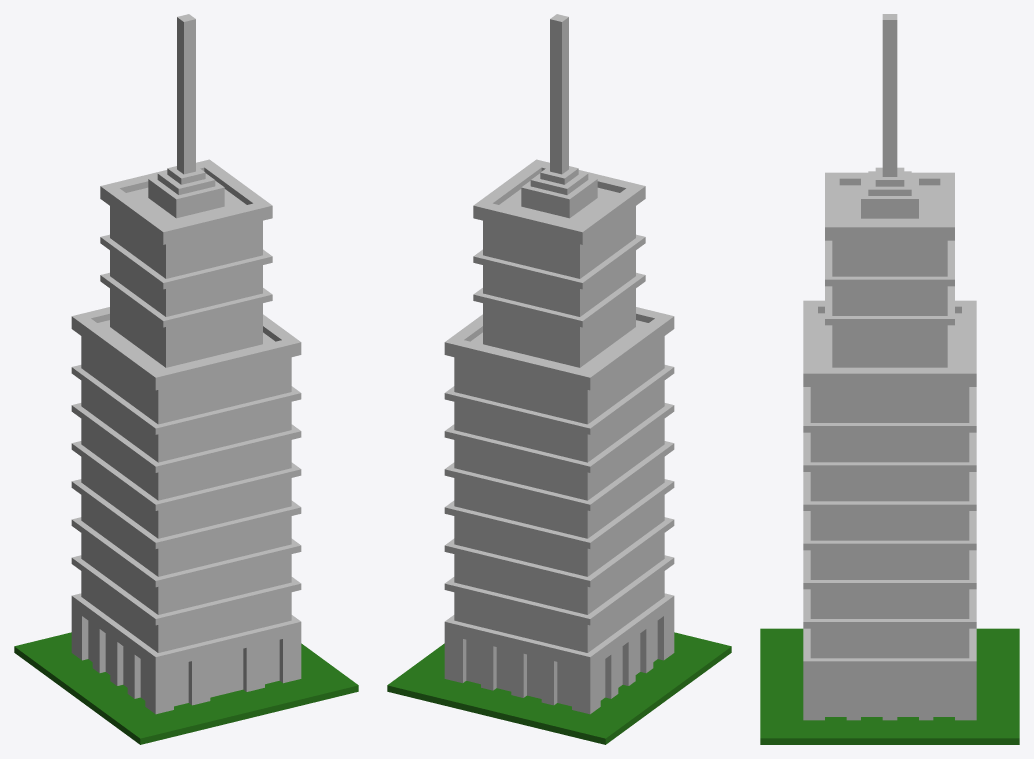
The picture shows the model from 3 angles, left to right: view 1: azimuth 30°, elevation 25°; view 2: azimuth 150°, elevation 25°; view 3: azimuth 270°, elevation 25°; orthographic projection. The views are drawn at different scales.
Parts seen in each view (by area): view 1: building_6; view 2: building_6; view 3: building_6.
Boxes of the visible parts, x1,y1,x2,y2 form: building_6: (14, 14, 358, 744); building_6: (387, 14, 731, 744); building_6: (760, 14, 1019, 744).
Size of the model in its own units: 9 by 25.75 by 9.
